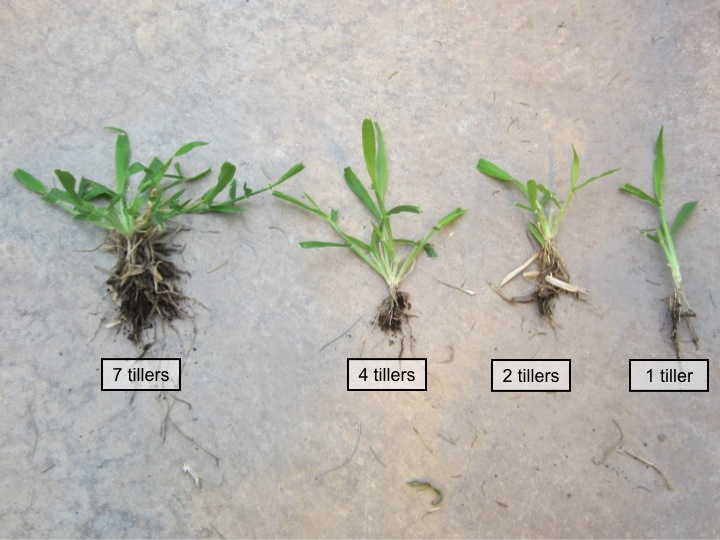crabgrass: (295, 121, 452, 290), (55, 134, 217, 229), (632, 137, 700, 292), (489, 149, 594, 240)
